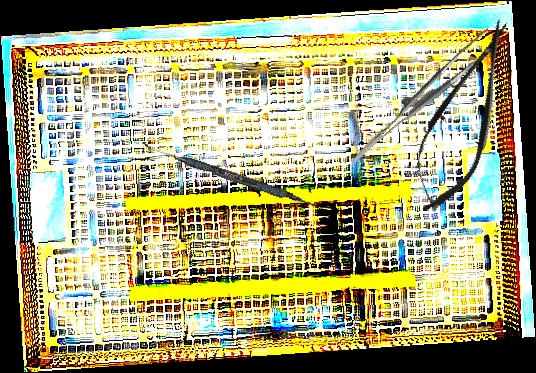Micro Scissor: (396, 8, 532, 224)
Spatula Surgical: (139, 141, 326, 212)
Tissue Forceps: (334, 28, 509, 162)
